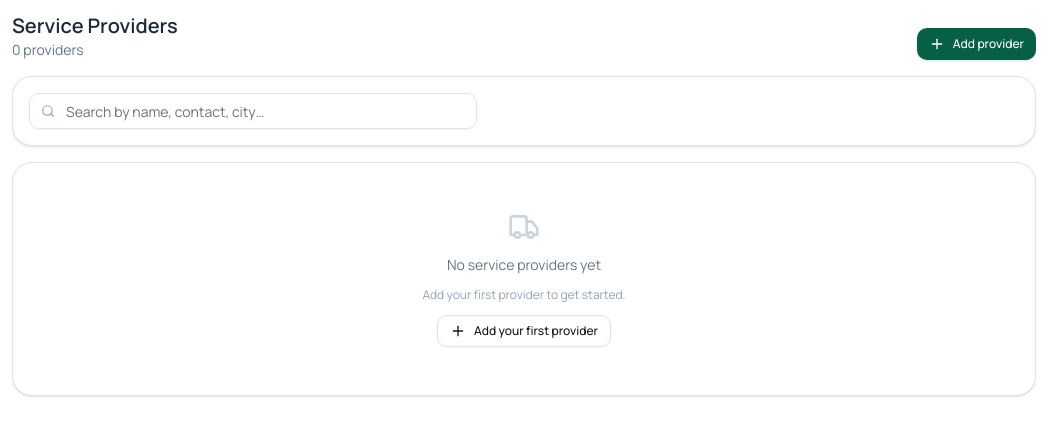
Test: TransportClient — load error (Bug 1 fix) › renders an error banner with retry button on fetch failure
# Trigger a non-initial-key fetch
Step 1. Type "trigger" into the search field → (253,111), box [29, 93, 477, 129]
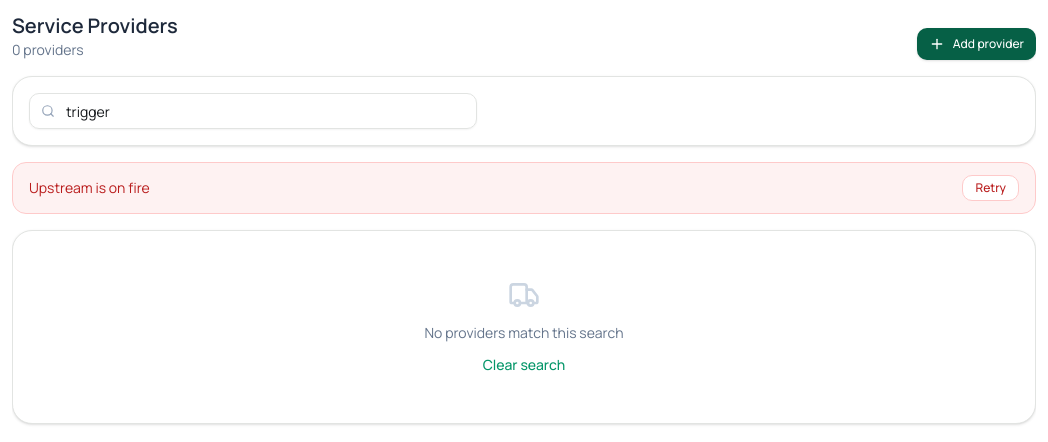
Expected: the message "Upstream is on fire Retry" is shown, [12, 162, 1036, 214]
Expected: the text "Upstream is on fire" is shown, [29, 178, 150, 198]
Expected: the button "Retry" is shown, [962, 175, 1019, 201]
